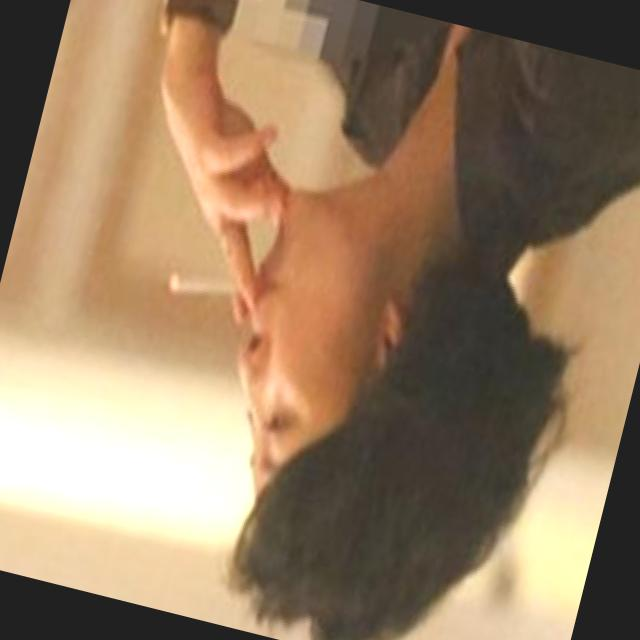cigarette: (165, 253, 268, 319)
